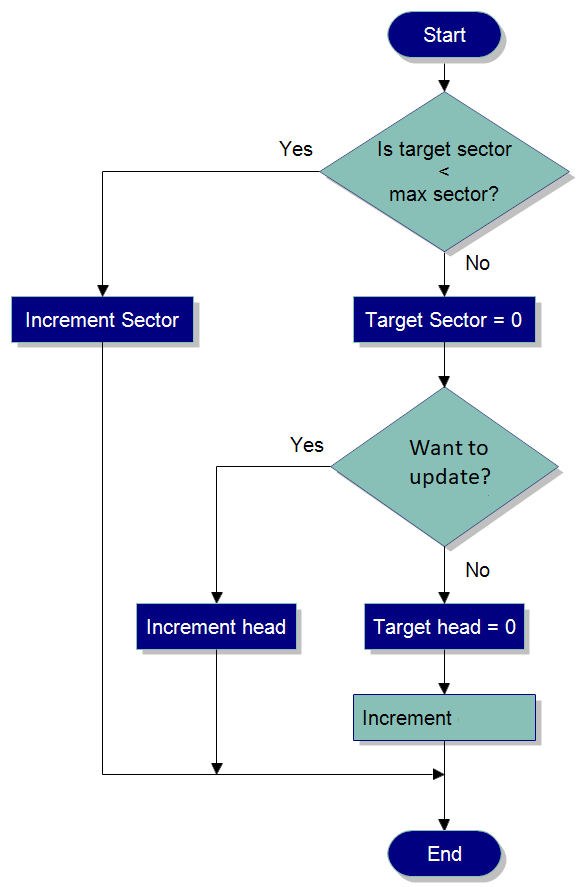arrow: (95, 341, 444, 781), (95, 168, 325, 303), (209, 461, 335, 603), (209, 650, 227, 778), (436, 746, 454, 835), (436, 543, 456, 605), (436, 250, 454, 296), (437, 647, 452, 700), (436, 345, 451, 388), (435, 60, 454, 92)
decision: (314, 88, 574, 257), (324, 385, 564, 551)
process: (347, 689, 541, 746), (350, 293, 541, 347), (8, 292, 198, 345), (360, 599, 531, 653), (133, 599, 300, 654)
terminator: (386, 8, 504, 64), (383, 828, 502, 880)
text: (370, 138, 518, 207), (404, 435, 494, 489), (21, 308, 186, 335), (363, 308, 527, 335), (140, 616, 289, 641), (370, 616, 518, 639), (359, 707, 455, 728), (416, 23, 468, 46), (277, 135, 314, 161), (424, 843, 464, 864), (289, 431, 325, 454), (460, 560, 494, 581), (462, 253, 493, 273)
